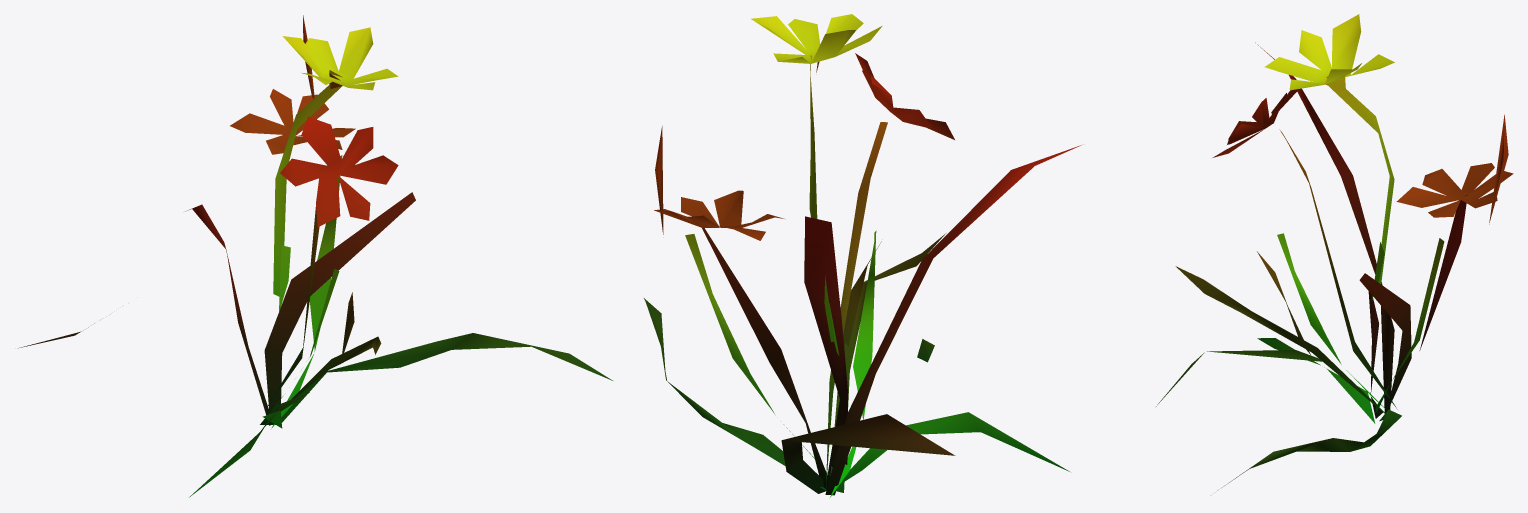
The model's file is SM_OW_Flower_b_LOD2.fbx.
3 views of the same model, side by side, from view 1: azimuth 30°, elevation 25°; view 2: azimuth 150°, elevation 25°; view 3: azimuth 270°, elevation 25° (orthographic). The views are drawn at different scales.
Parts seen in each view (by area): view 1: SM_OW_Flower_b_LOD2; view 2: SM_OW_Flower_b_LOD2; view 3: SM_OW_Flower_b_LOD2.
Part boxes in pixels (box(x1,y1,x2,y2)): SM_OW_Flower_b_LOD2: box(18, 15, 612, 497); SM_OW_Flower_b_LOD2: box(644, 14, 1081, 498); SM_OW_Flower_b_LOD2: box(1156, 14, 1513, 490).
Bounding box in the file's own units: 0.2177 × 0.1775 × 0.1585.
